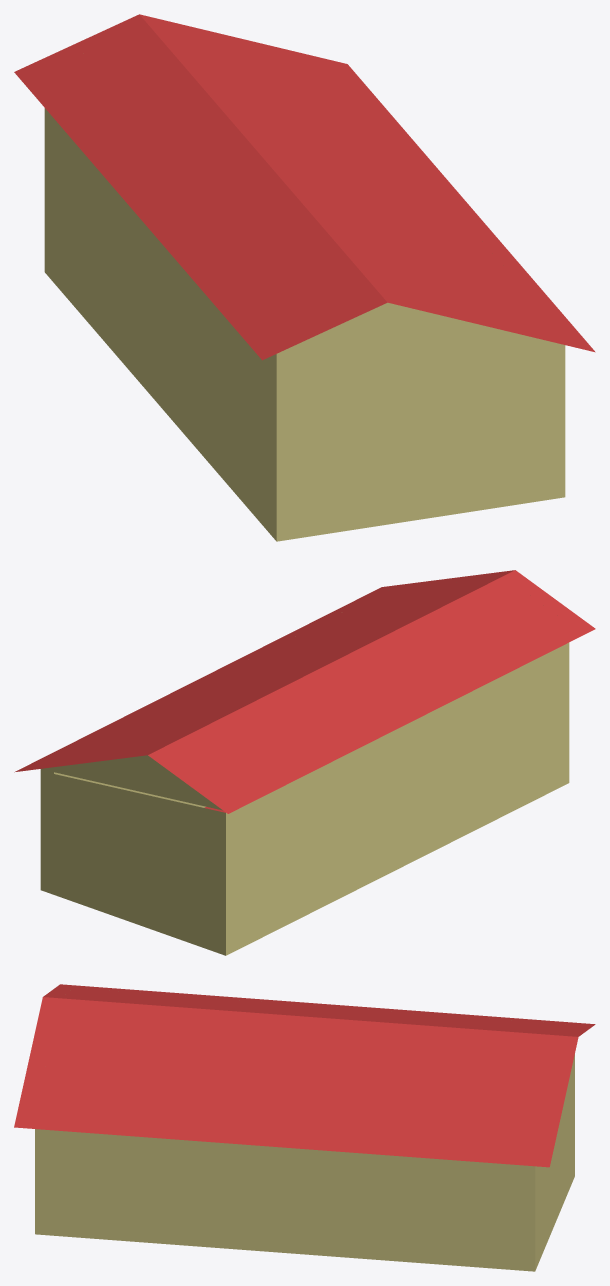
3 renders of one model, top to bottom at view 1: azimuth 30°, elevation 25°; view 2: azimuth 150°, elevation 25°; view 3: azimuth 270°, elevation 25°, orthographic. The views are drawn at different scales.
Bounding box in the file's own units: 19.81 × 32.34 × 10.69.
